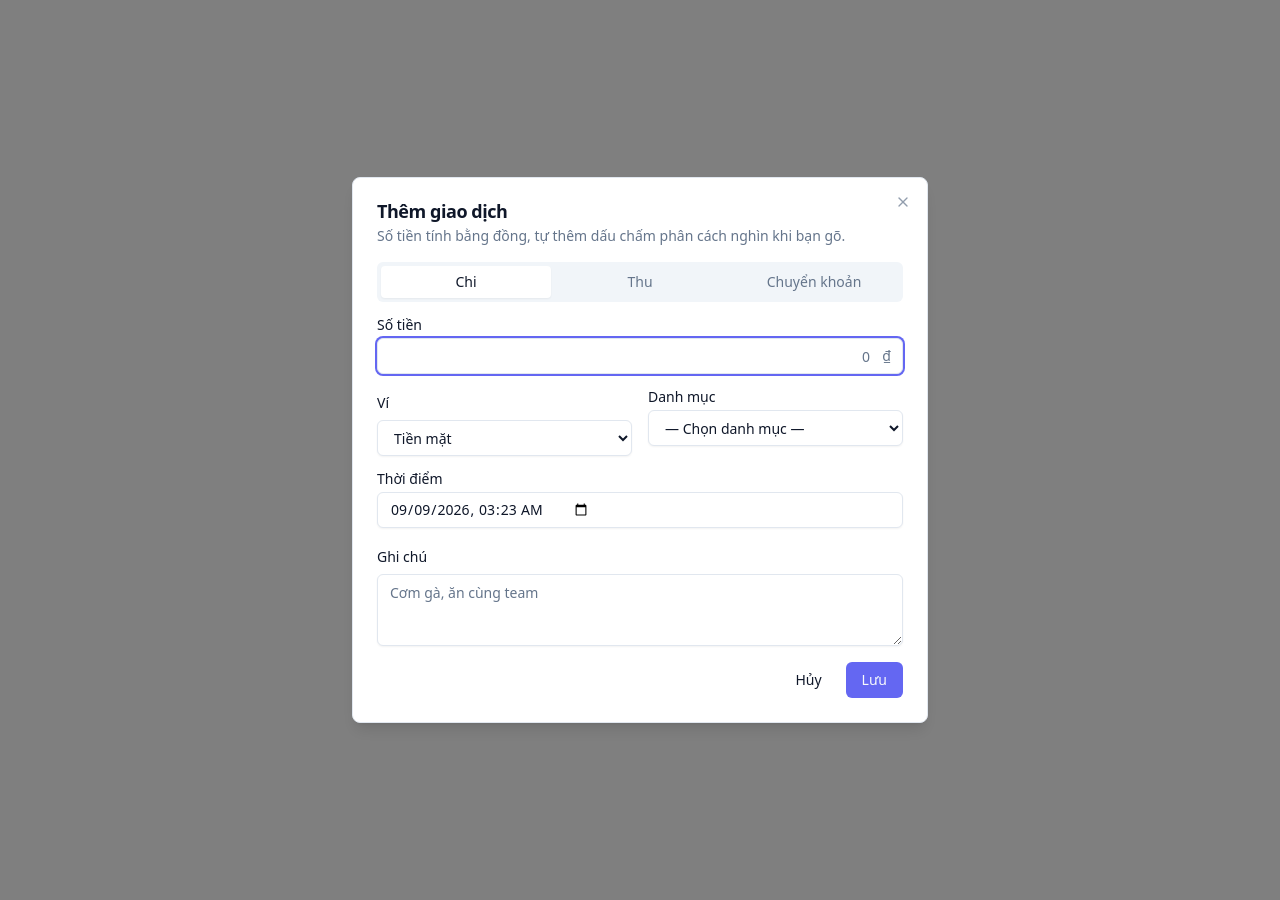
Scenario: TransactionFormDialog › UC-06 5a — chọn TRANSFER thì form đổi sang ví đích và ẩn ô danh mục
Expected: the dropdown labelled "Danh mục" is shown, [648,410,903,446]
Step 1. Click the radio button labelled "Chuyển khoản" → (814, 282), box [729,266,899,298]
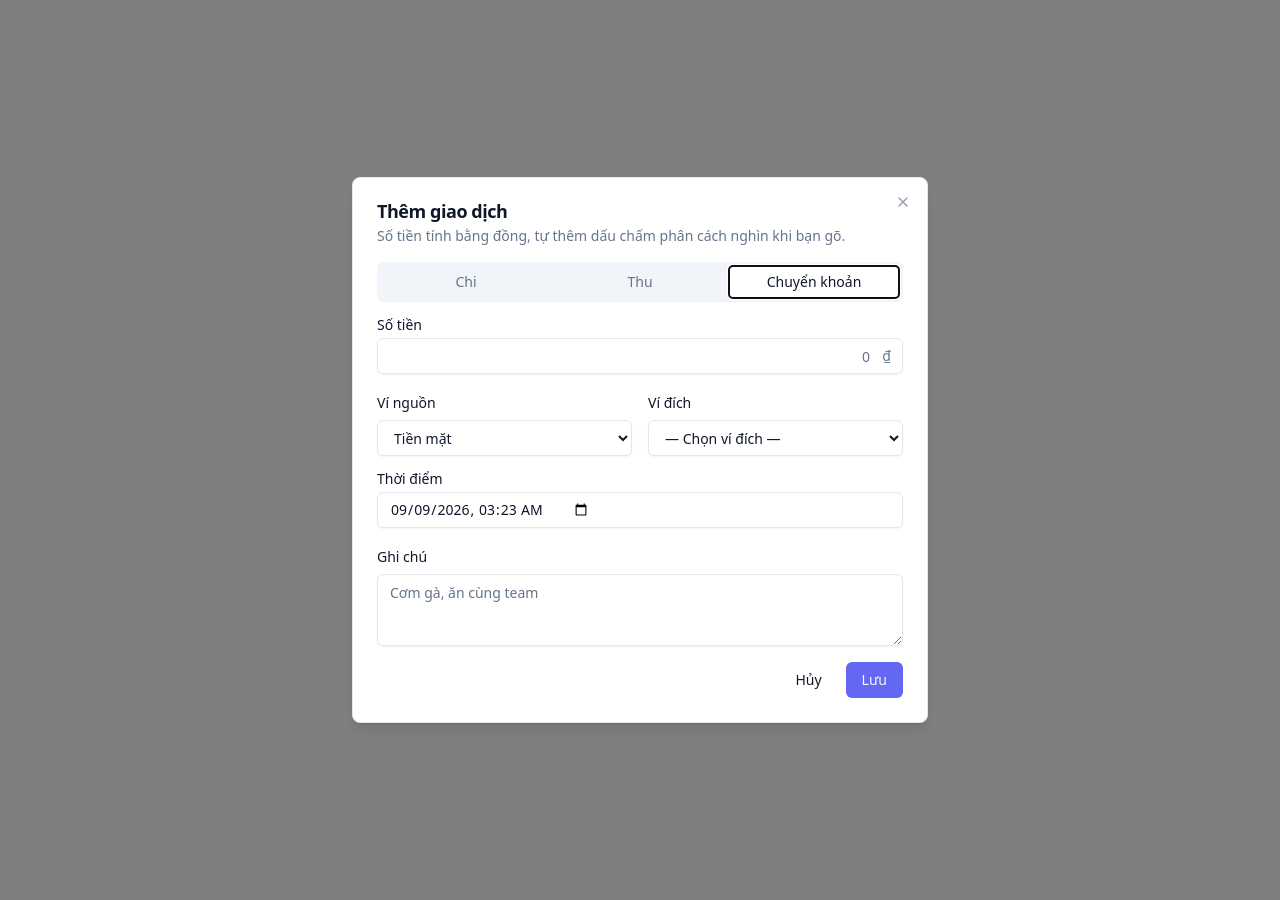
Now the dropdown labelled "Ví đích" is shown, box [648,420,903,456]
Now the label labelled "Danh mục" is gone
